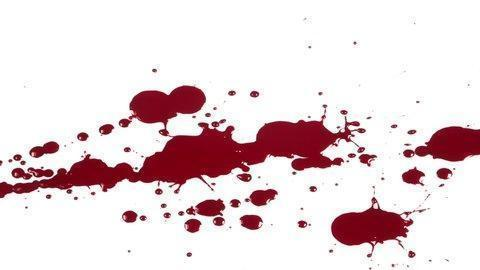Fire: (241, 105, 365, 170), (138, 124, 248, 188), (0, 155, 139, 198), (332, 197, 430, 256), (119, 86, 206, 136), (415, 128, 480, 162), (186, 199, 226, 226), (36, 188, 95, 204), (11, 167, 54, 180), (246, 189, 278, 206), (29, 141, 59, 158), (0, 183, 33, 198), (403, 167, 426, 184), (241, 216, 263, 230), (185, 219, 202, 232), (361, 154, 378, 166), (122, 211, 138, 222), (8, 154, 25, 164), (99, 124, 114, 135), (439, 169, 453, 180), (77, 133, 89, 141), (404, 149, 416, 157), (299, 221, 312, 228), (230, 200, 240, 208), (409, 251, 417, 258), (250, 91, 259, 97), (155, 188, 162, 195), (140, 215, 147, 222), (310, 186, 318, 192), (164, 212, 170, 219), (228, 90, 235, 96), (408, 129, 416, 134), (122, 119, 129, 124), (124, 147, 131, 152), (358, 147, 364, 152), (392, 124, 398, 129), (349, 154, 356, 158), (161, 204, 166, 209), (405, 144, 413, 146)
